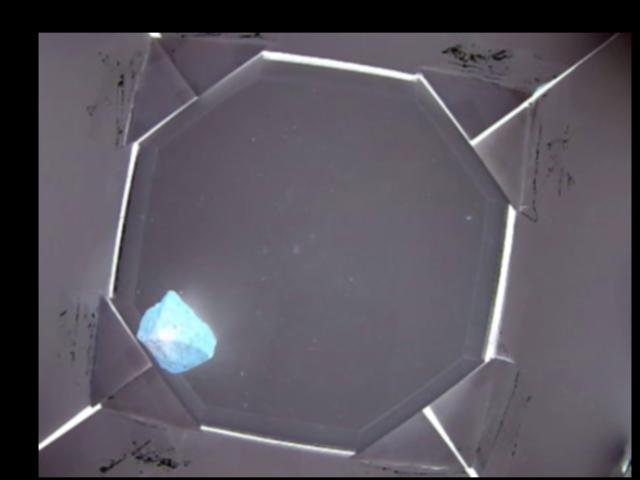Brisk: (137, 291, 217, 370)
